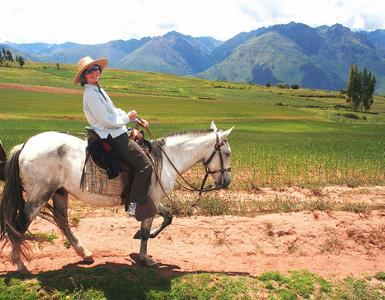person: (75, 55, 152, 219)
